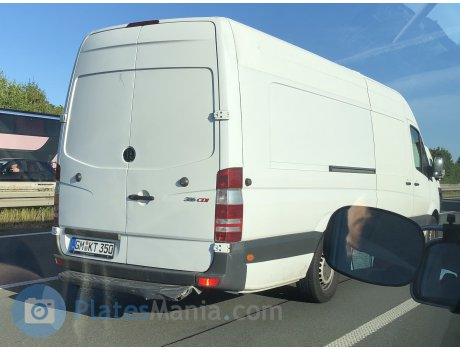License Plates: (75, 237, 114, 255)
